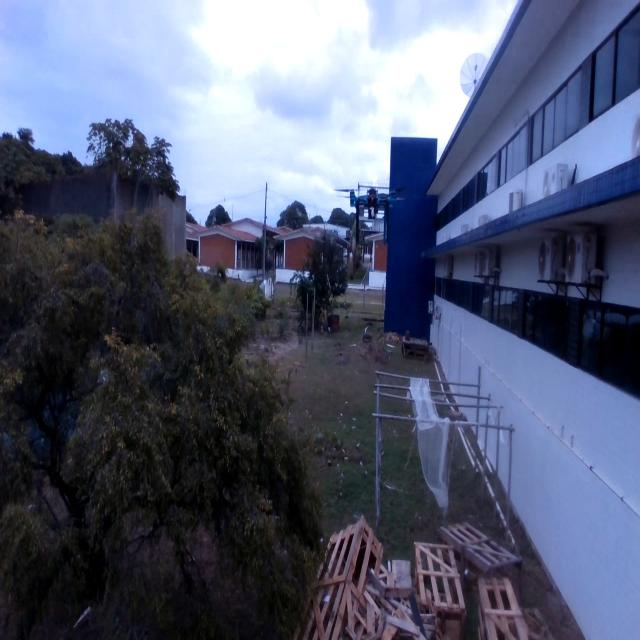-uav-: (327, 161, 418, 261)
